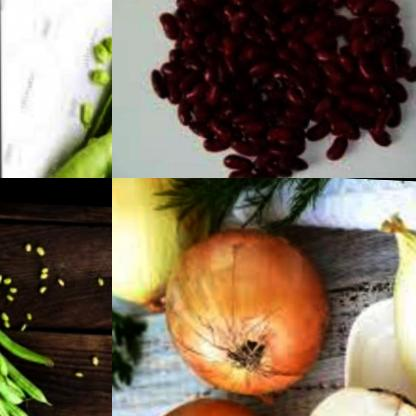beans: (145, 0, 416, 178), (19, 0, 112, 178), (0, 240, 52, 416), (0, 272, 18, 303), (35, 264, 50, 298), (19, 306, 33, 330), (94, 269, 107, 290), (56, 270, 66, 293), (33, 244, 46, 260), (68, 369, 88, 379), (1, 311, 12, 328), (91, 353, 103, 366), (22, 243, 32, 255)
onion: (152, 210, 334, 400), (112, 178, 207, 332), (372, 192, 416, 416), (112, 373, 295, 416)
